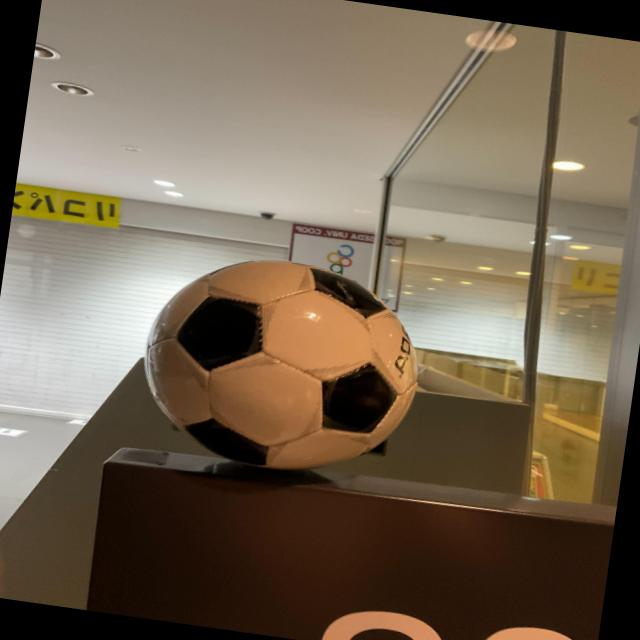Soccer Ball: (132, 242, 426, 488)
